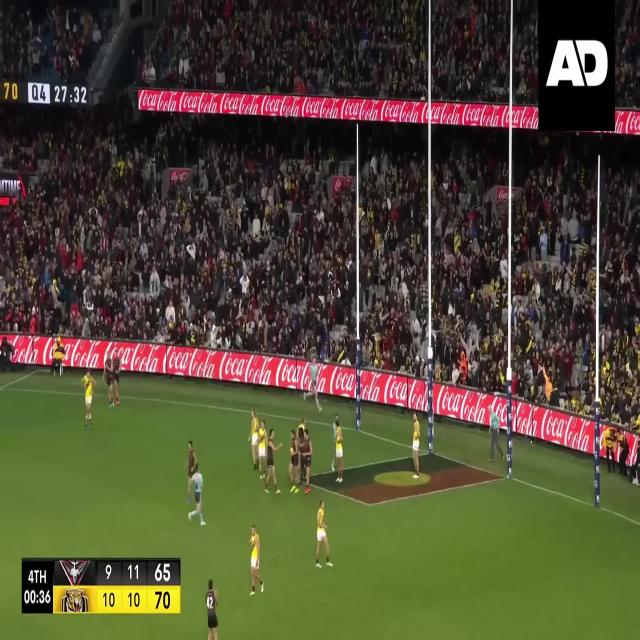crowd: (2, 110, 640, 429), (140, 4, 538, 101), (1, 3, 116, 82), (615, 2, 640, 108), (103, 73, 134, 115)
